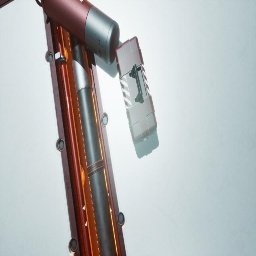FirstAidBox ,: (115, 36, 157, 145)
NitrogenTank ,: (35, 0, 120, 65)
